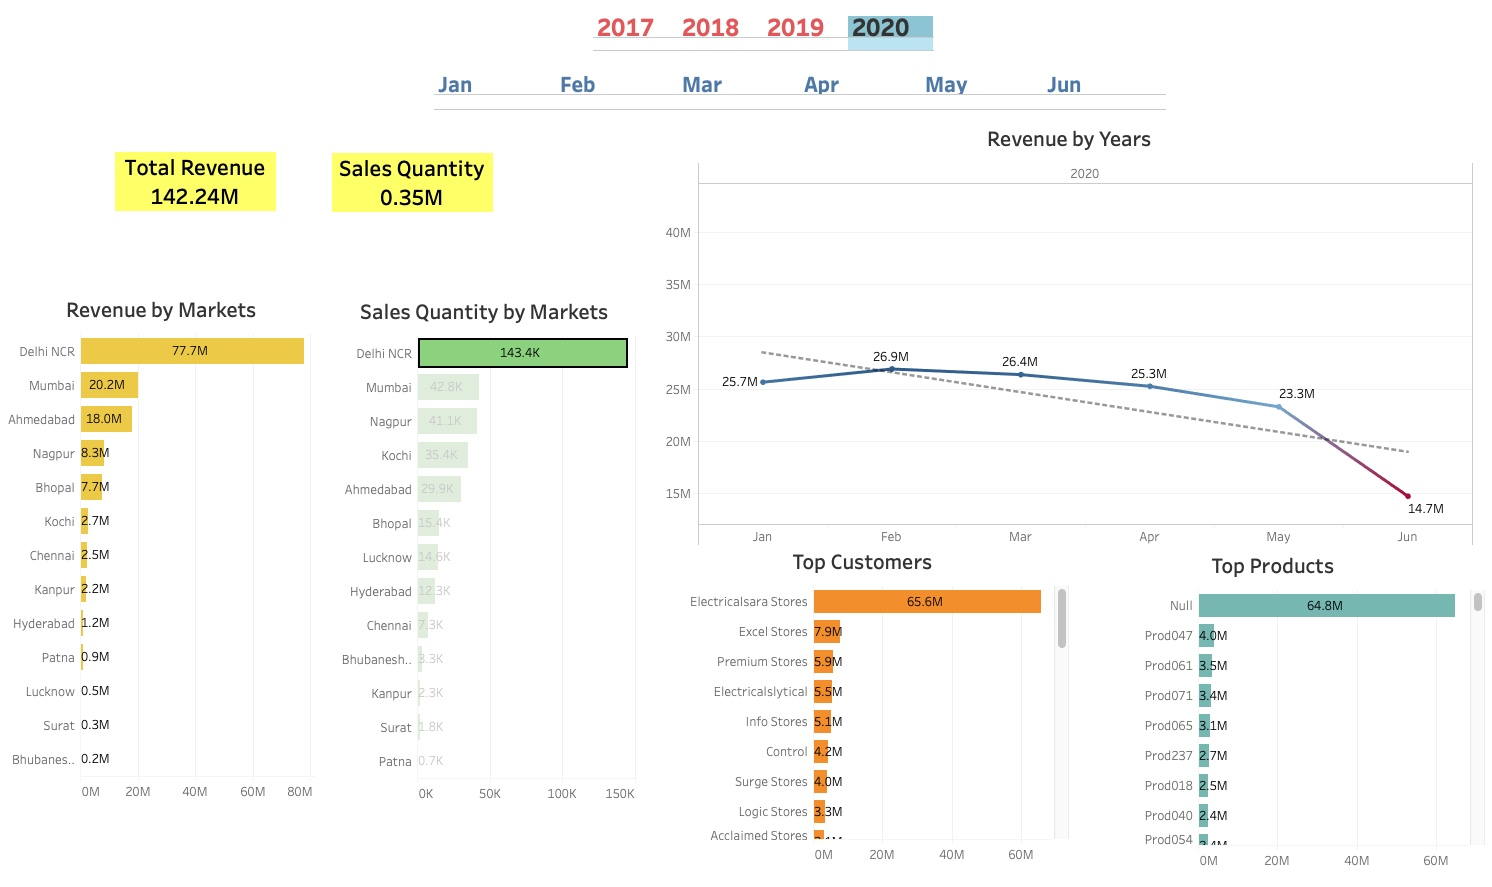

What the dashboard file says about the page in this screenshot:
{"tool":"tableau","page":{"name":"Dashboard ","canvas":[1500,900],"ordinal":0},"visuals":[{"type":"worksheet","title":"Year","mark":"Automatic","cols":["cy_date"],"box":[595,3,341,50]},{"type":"worksheet","title":"Month","mark":"Automatic","cols":["cy_date"],"box":[436,60,732,52]},{"type":"worksheet","title":"Revenue by Years","mark":"Automatic","rows":["Calculation_395683513602072582"],"cols":["cy_date","cy_date"],"box":[667,122,809,426]},{"type":"worksheet","title":"Revenue","mark":"Automatic","box":[117,139,210,111]},{"type":"worksheet","title":"Quantity","mark":"Automatic","box":[334,140,217,82]},{"type":"worksheet","title":"Revenue by Markets","mark":"Automatic","rows":["markets_name"],"cols":["Calculation_395683513602072582"],"box":[10,293,307,540]},{"type":"worksheet","title":"Sales Quantity by Markets","mark":"Automatic","rows":["markets_name"],"cols":["sales_qty"],"box":[335,295,303,538]},{"type":"worksheet","title":"Top Customers","mark":"Automatic","rows":["custmer_name"],"cols":["Calculation_395683513602072582"],"box":[675,545,396,326]},{"type":"worksheet","title":"Top Products","mark":"Automatic","rows":["product_code (products)"],"cols":["Calculation_395683513602072582"],"box":[1080,549,407,328]}]}

Visuals, with their boxes in screenshot pixels (x1, y1, x2, y2), scaled from the page's 1500x900 canvas onto the 1492x887 screenshot:
"Year" worksheet: Rect(592, 3, 931, 52)
"Month" worksheet: Rect(434, 59, 1162, 110)
"Revenue by Years" worksheet: Rect(663, 120, 1468, 540)
"Revenue" worksheet: Rect(116, 137, 325, 246)
"Quantity" worksheet: Rect(332, 138, 548, 219)
"Revenue by Markets" worksheet: Rect(10, 289, 315, 821)
"Sales Quantity by Markets" worksheet: Rect(333, 291, 635, 821)
"Top Customers" worksheet: Rect(671, 537, 1065, 858)
"Top Products" worksheet: Rect(1074, 541, 1479, 864)
